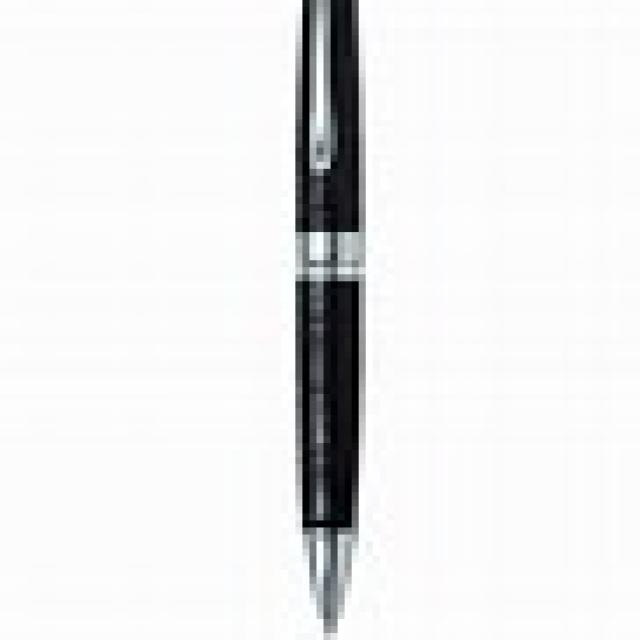pen: (297, 0, 365, 640)
